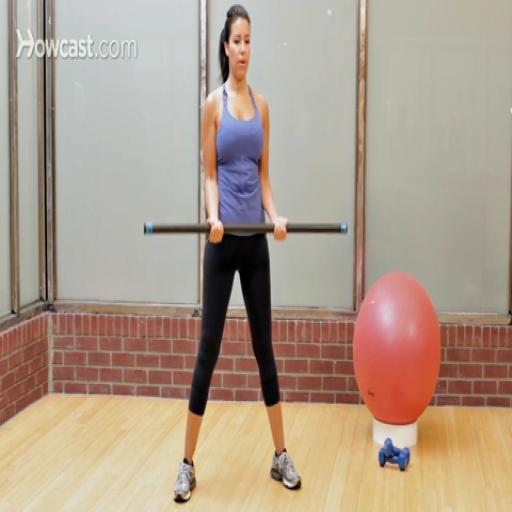exercise: (171, 3, 303, 505)
